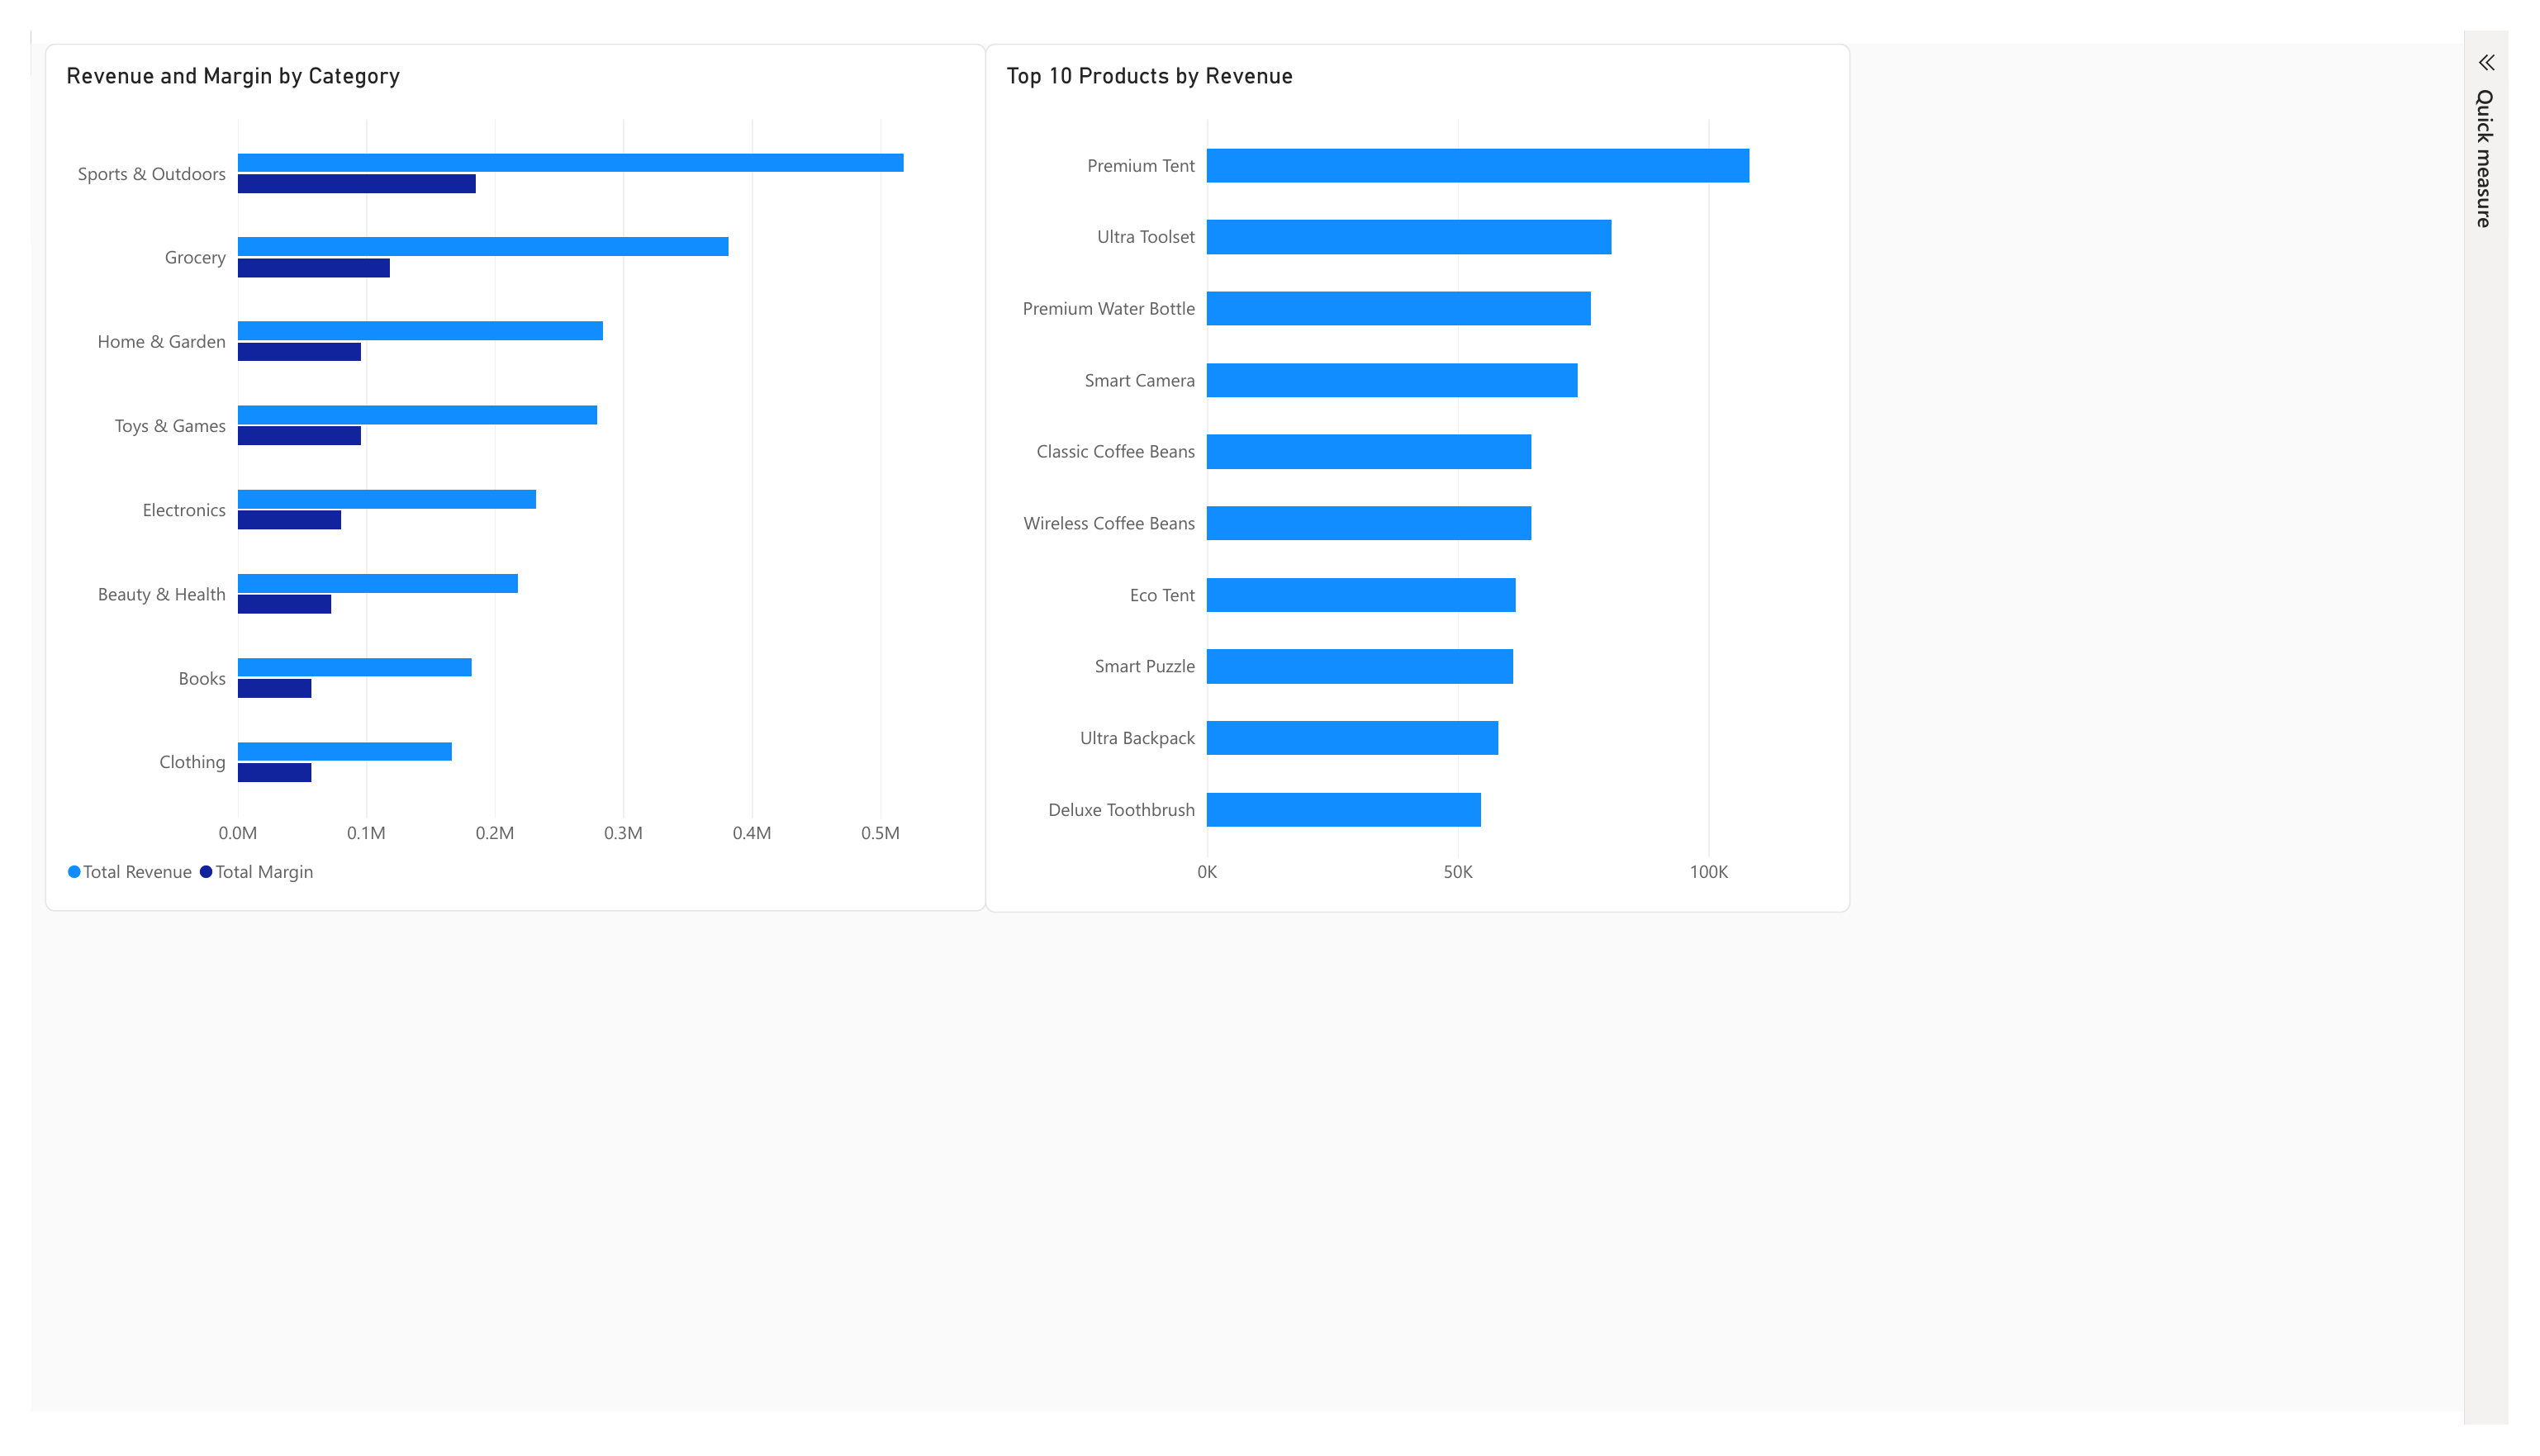

This screenshot's page, from the dashboard's own definition file:
{"tool":"powerbi","page":{"name":"Products","canvas":[1920,1080],"ordinal":2},"visuals":[{"type":"clusteredBarChart","title":"Revenue and Margin by Category","fields":{"Category":["dim_product.category"],"Y":["fact_sales.Total Revenue","fact_sales.Total Margin"]},"box":[11.1,0,742.6,685.2],"z":0},{"type":"clusteredBarChart","title":"Top 10 Products by Revenue","fields":{"Category":["dim_product.name"],"Y":["Sum(fact_sales.net_amount)"]},"box":[753.4,0,682.4,685.7],"z":1}]}

Visuals, with their boxes on the page's 1920x1080 design canvas (x1, y1, x2, y2). These are canvas units, not pixel positions in the 2540x1456 screenshot, which may show the page scaled, cropped or inside an application window:
"Revenue and Margin by Category" clusteredBarChart: Rect(11, 0, 754, 685)
"Top 10 Products by Revenue" clusteredBarChart: Rect(753, 0, 1436, 686)
